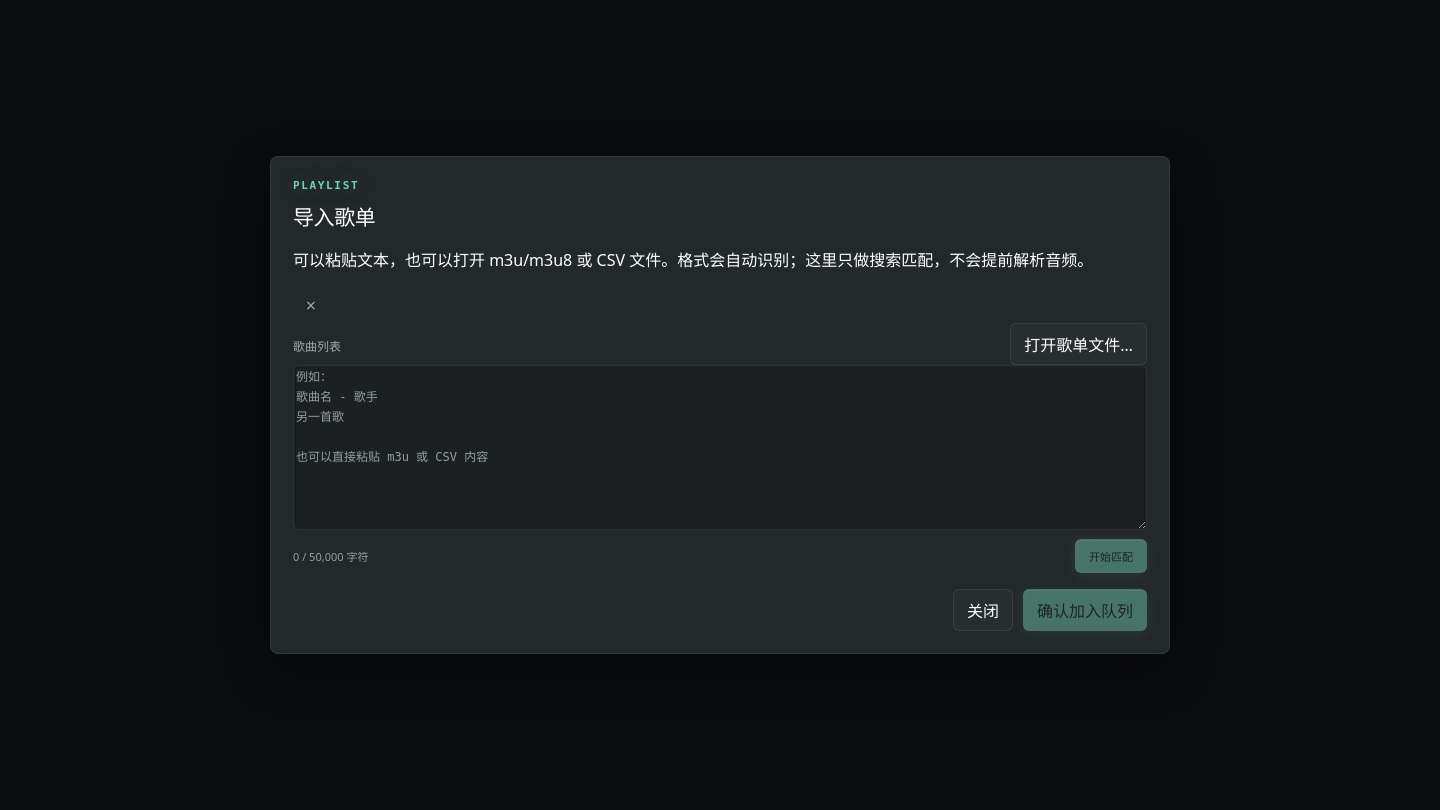
Test: TextPlaylistImportDialog › surfaces a file read failure without wedging the dialog
Click the button "打开歌单文件…" at [1079, 344], box [1010,323,1147,365]
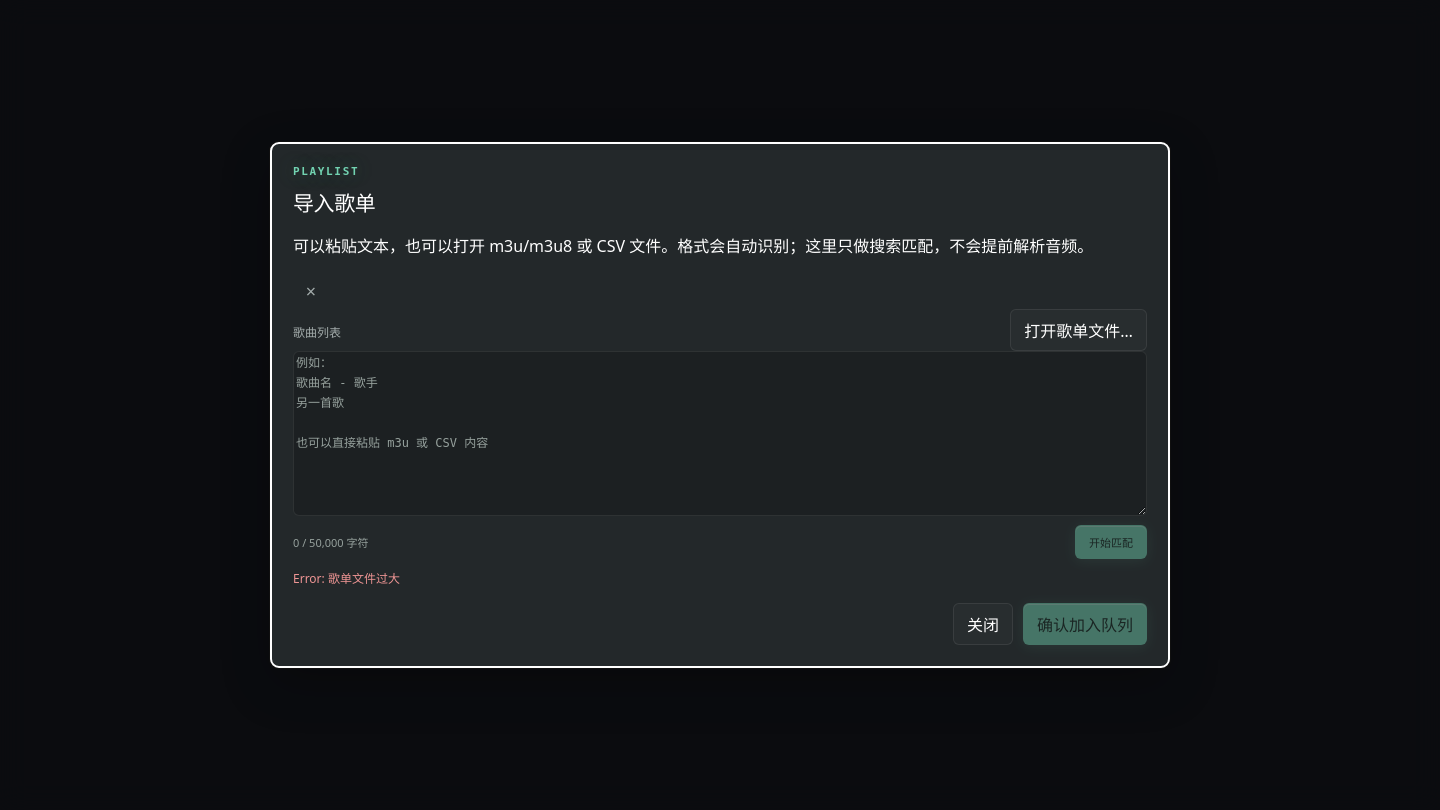
Check: the button "打开歌单文件…" is enabled, box [1010,309,1147,351]
Check: the message shows "歌单文件过大", box [293,570,400,587]
